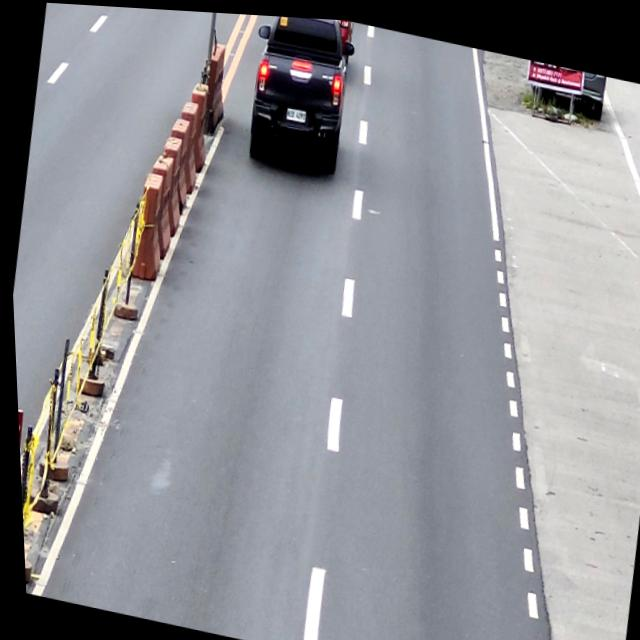Car: (236, 11, 365, 176)
License-Plate: (284, 103, 307, 122)
